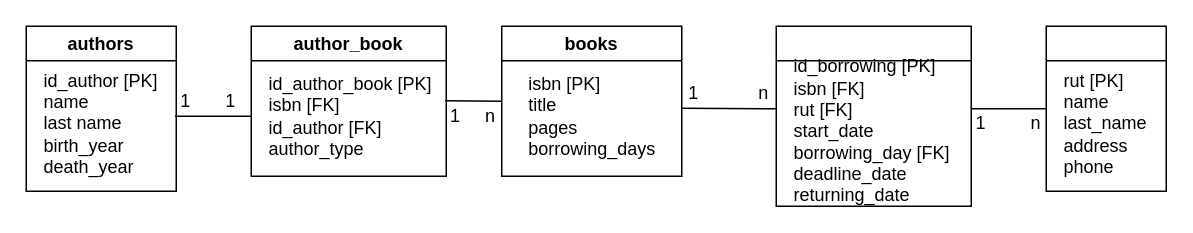
Some shapes in this 1193 by 233 pixel diagram are drawn without their labels. Here are the shapes that lost their labels. From the top down, the box of each, then its label:
(775, 25, 971, 206): borrowings
(1045, 25, 1166, 191): associate
